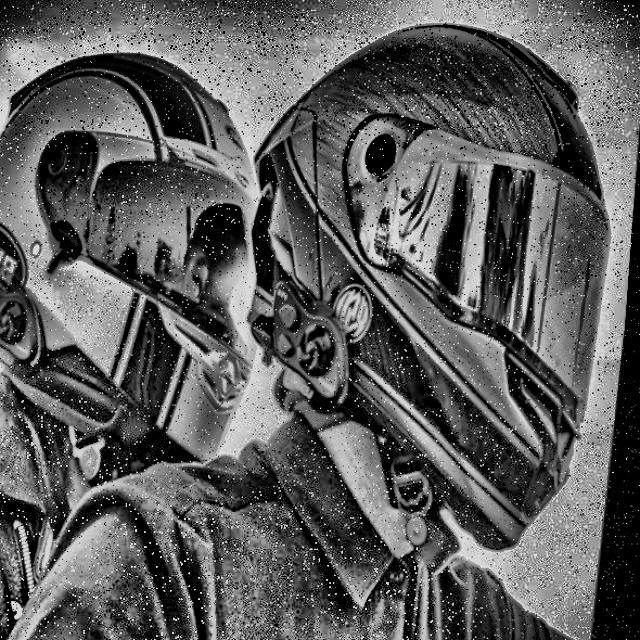Helmet: (217, 0, 640, 565), (0, 37, 293, 485)
